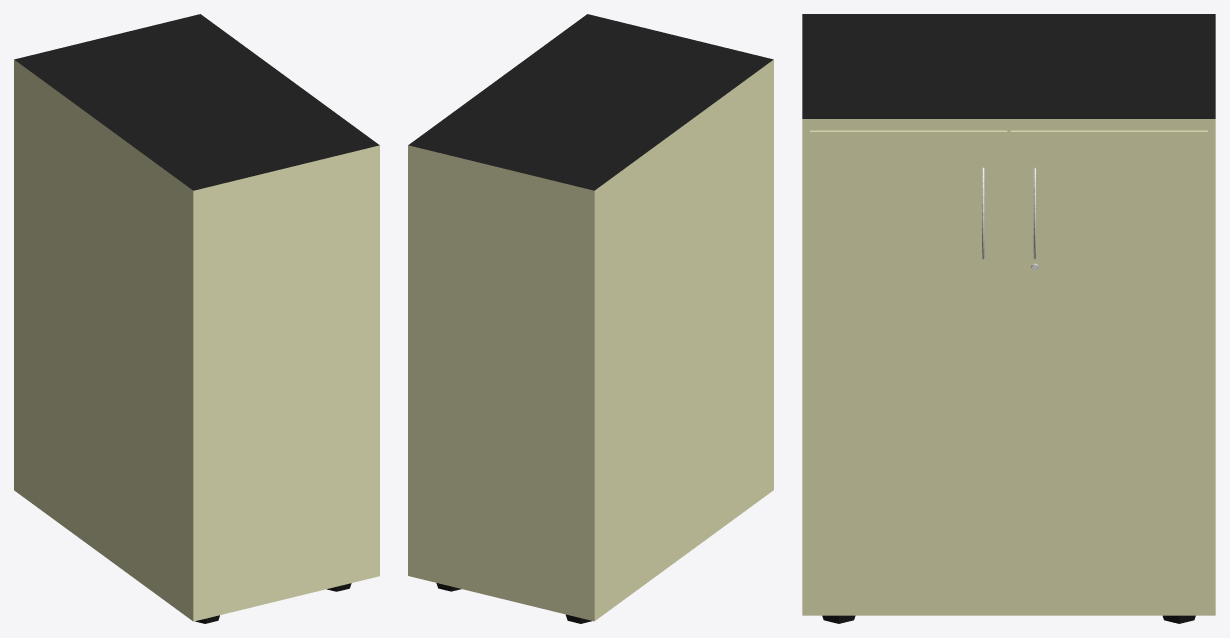
File: lar_wardrobe.dae
3 renders of one model, left to right at view 1: azimuth 30°, elevation 25°; view 2: azimuth 150°, elevation 25°; view 3: azimuth 270°, elevation 25°, orthographic. The views are drawn at different scales.
Visible parts, largest first — view 1: Component_13 (×2); view 2: Component_13 (×2); view 3: Component_59, Component_58, Component_13 (×2).
Part boxes in pixels (box(x1,y1,x2,y2)): Component_13 (×2): box(14, 14, 379, 621); Component_13 (×2): box(408, 14, 773, 621); Component_59: box(810, 130, 1007, 604); Component_58: box(1010, 130, 1207, 604); Component_13 (×2): box(802, 14, 1215, 615).
Size of the model in its own units: 20.34 by 31.5 by 43.11.
